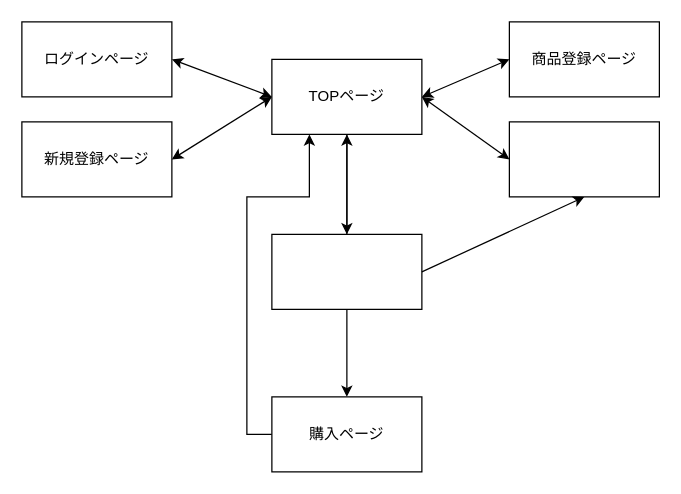
The diagram is 681 pixels wide and 494 high, and some of its shapes have lost their labels. The box of each missing label's shape, as (x1, y1, x2, y2) in pixels:
商品編集ページ: (508, 121, 659, 197)
詳細ページ: (271, 233, 422, 309)
